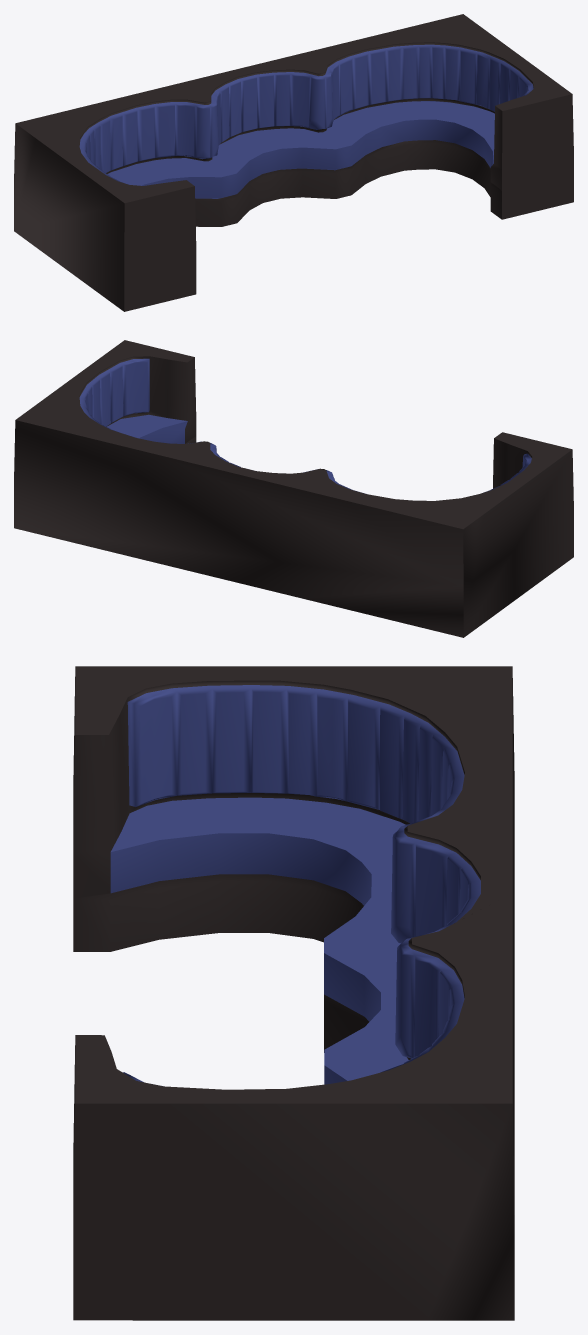
Rendered from 3040f185-6ecd-4093-afbb-ace5a82af0d2.glb.
3 renders of one model, top to bottom at view 1: azimuth 30°, elevation 25°; view 2: azimuth 150°, elevation 25°; view 3: azimuth 270°, elevation 25°, orthographic. The views are drawn at different scales.
Visible parts, largest first — view 1: BarCouch.012; view 2: BarCouch.012; view 3: BarCouch.012.
Boxes of the visible parts, x1,y1,x2,y2 form: BarCouch.012: [14, 14, 573, 311]; BarCouch.012: [14, 340, 573, 637]; BarCouch.012: [73, 666, 514, 1320].
Size of what is drawn, in the model's own units: 4.75 by 1.09 by 2.02.
1 material, 1 textured.
